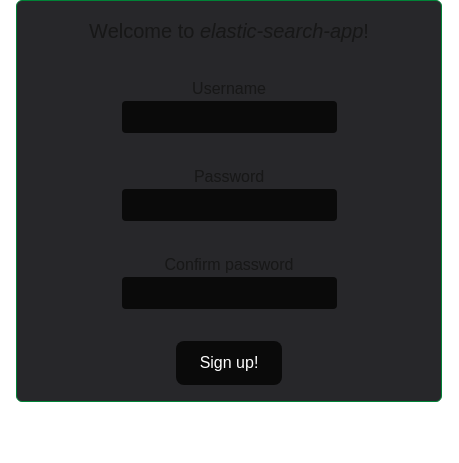
Sign up page › shows error when fields are blank
Click the button "Sign up!": (229, 363) [176,341,282,385]
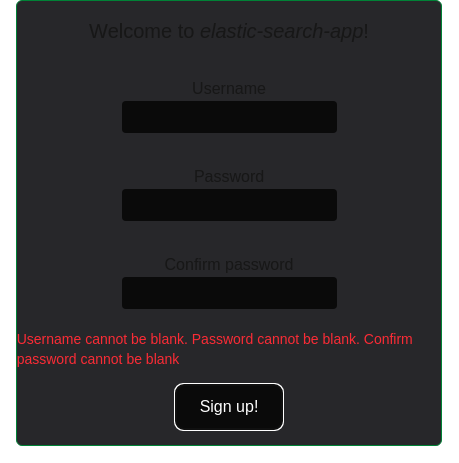
Check: the text "confirm password cannot be blank" is shown, box [17,331,413,367]
